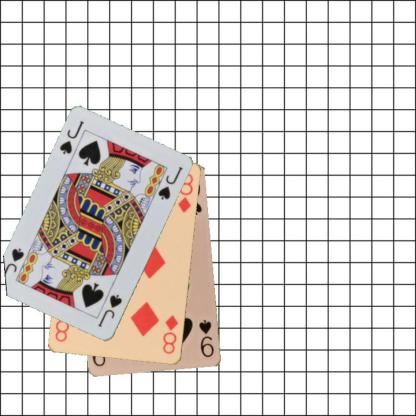8d: (160, 312, 180, 356)
9s: (197, 317, 216, 359)
Js: (57, 118, 86, 156), (95, 292, 124, 329)
